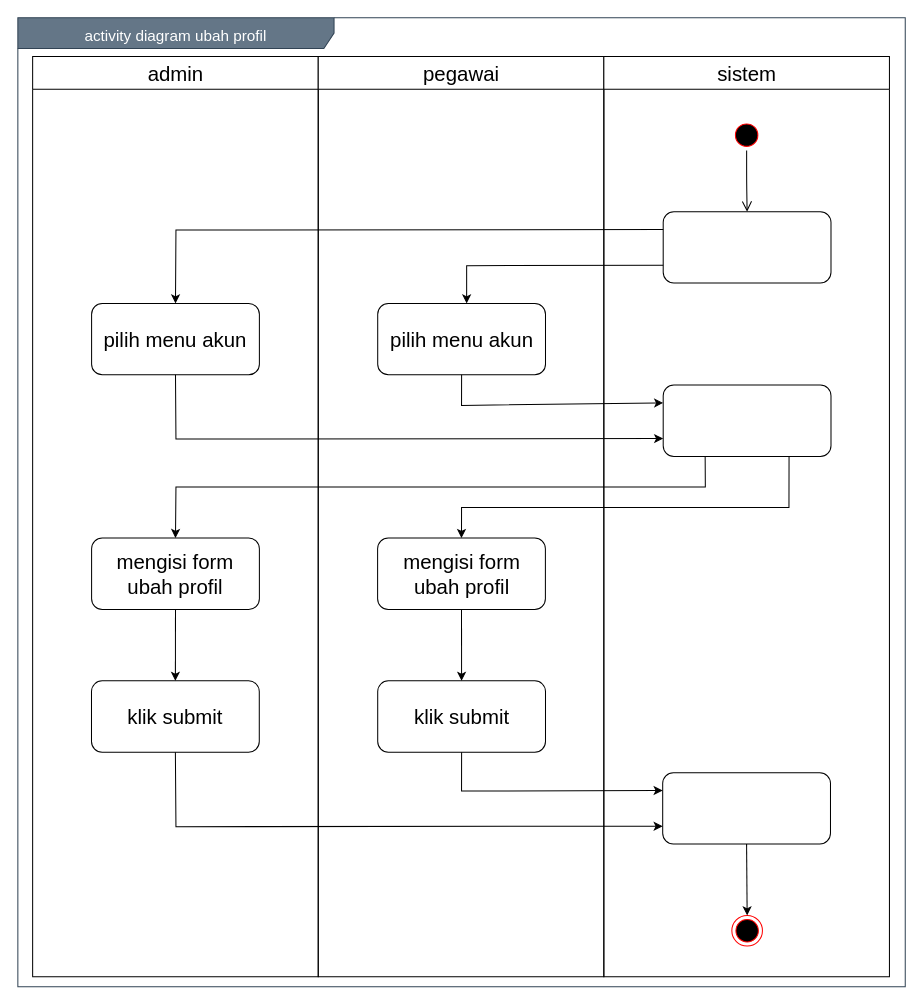
Some shapes in this 923 by 1005 pixel diagram are drawn without their labels. Here are the shapes that lost their labels. From the top down, the centre of each, then its label:
point 746,247: menampilkan dashboard sesuai rolenya
point 746,420: menampilkan form ubah profil
point 746,808: menyimpan data dalam database
